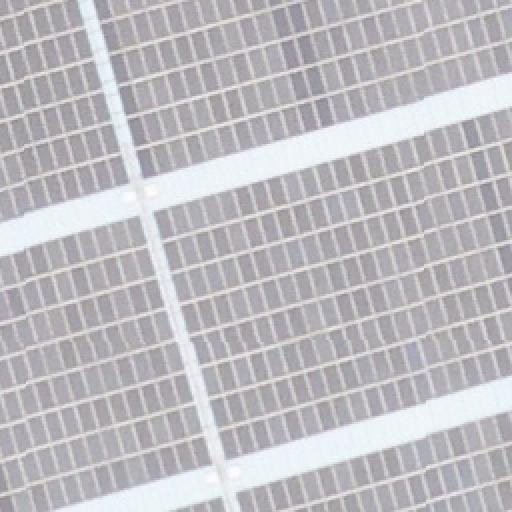solar-panel: (152, 107, 512, 461), (92, 0, 512, 180), (1, 216, 215, 512), (0, 1, 132, 223), (236, 412, 512, 512), (164, 496, 228, 512)
